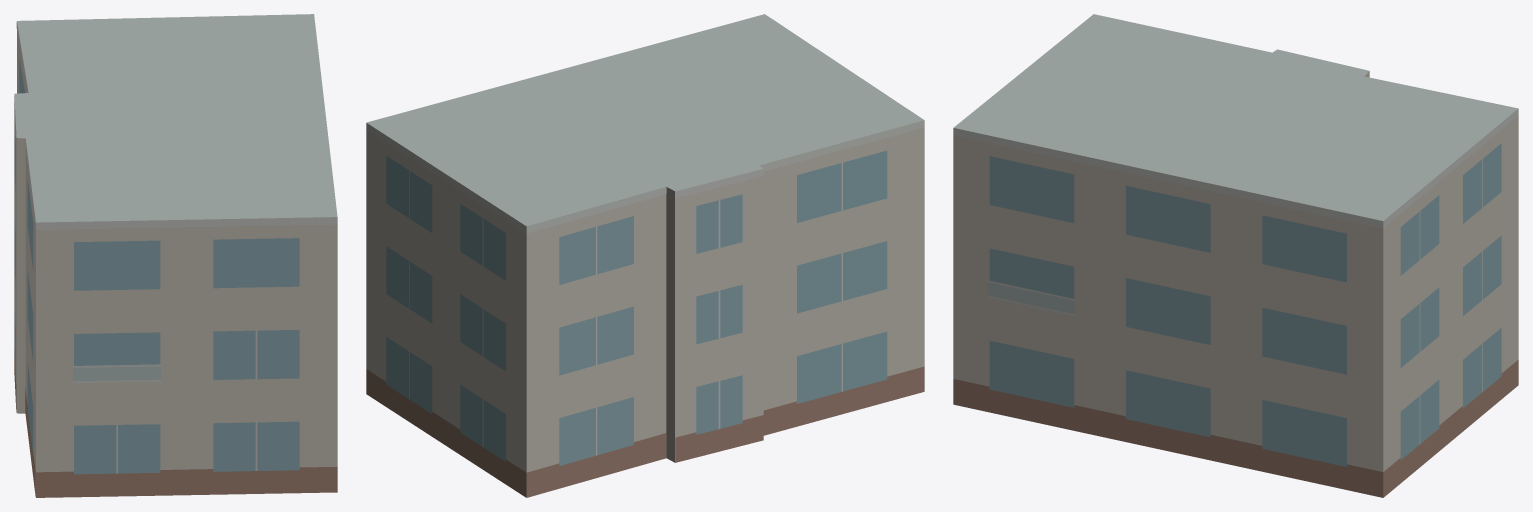
File: survey-upis-32944151.glb
3 views of the same model, side by side, from view 1: azimuth 30°, elevation 25°; view 2: azimuth 150°, elevation 25°; view 3: azimuth 270°, elevation 25° (orthographic).
Parts seen in each view (by area): view 1: survey-upis-32944151.tmp; view 2: survey-upis-32944151.tmp; view 3: survey-upis-32944151.tmp.
Part boxes in pixels (<box>): survey-upis-32944151.tmp: <box>14,14,337,497</box>; survey-upis-32944151.tmp: <box>366,14,924,497</box>; survey-upis-32944151.tmp: <box>953,14,1518,497</box>.
Size of the model in its own units: 14.69 by 9.15 by 16.94.
